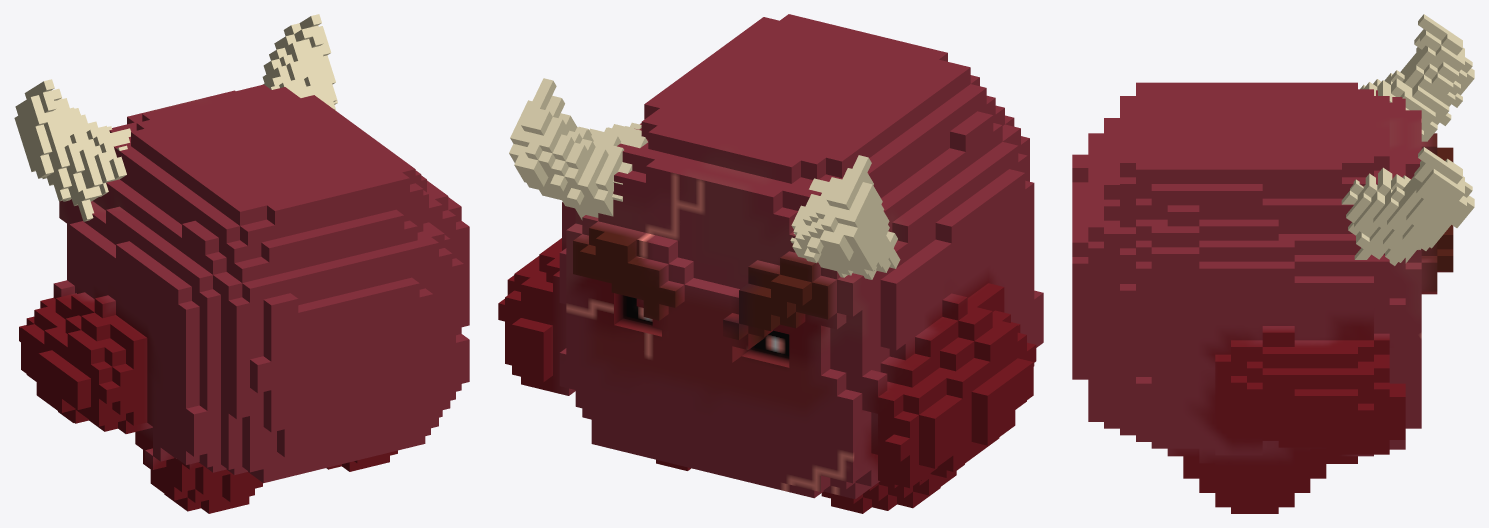
File: enemy_lv3.glb
3 renders of one model, left to right at view 1: azimuth 30°, elevation 25°; view 2: azimuth 150°, elevation 25°; view 3: azimuth 270°, elevation 25°, orthographic. The views are drawn at different scales.
Parts seen in each view (by area): view 1: Cube.001, Chifre_Vermelho_0.002, Chifre_Vermelho_0.001; view 2: Cube.001, Chifre_Vermelho_0.001, Chifre_Vermelho_0.002; view 3: Cube.001, Chifre_Vermelho_0.001, Chifre_Vermelho_0.002.
Boxes of the visible parts, x1=… form: Cube.001: x1=19, y1=84, x2=469, y2=513; Chifre_Vermelho_0.002: x1=14, y1=79, x2=130, y2=221; Chifre_Vermelho_0.001: x1=262, y1=14, x2=337, y2=110; Cube.001: x1=498, y1=14, x2=1043, y2=513; Chifre_Vermelho_0.001: x1=509, y1=78, x2=647, y2=220; Chifre_Vermelho_0.002: x1=790, y1=155, x2=900, y2=279; Cube.001: x1=1072, y1=82, x2=1453, y2=513; Chifre_Vermelho_0.001: x1=1341, y1=147, x2=1474, y2=265; Chifre_Vermelho_0.002: x1=1360, y1=14, x2=1474, y2=141.
Bounding box in the file's own units: 2.72 × 2.43 × 2.38.
3 materials, 1 textured.
